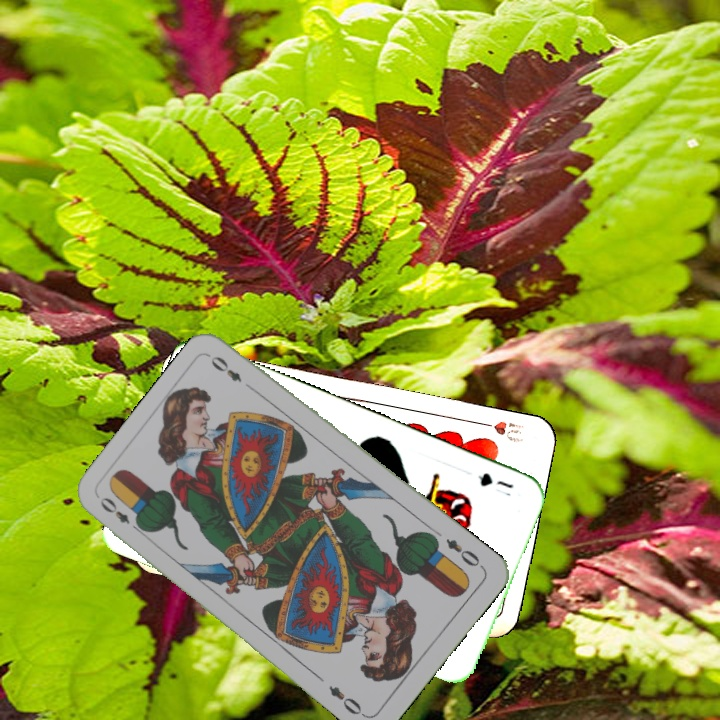EO: (95, 493, 146, 536), (441, 534, 487, 571)
GU: (473, 468, 516, 491)
H10: (472, 417, 527, 445)
